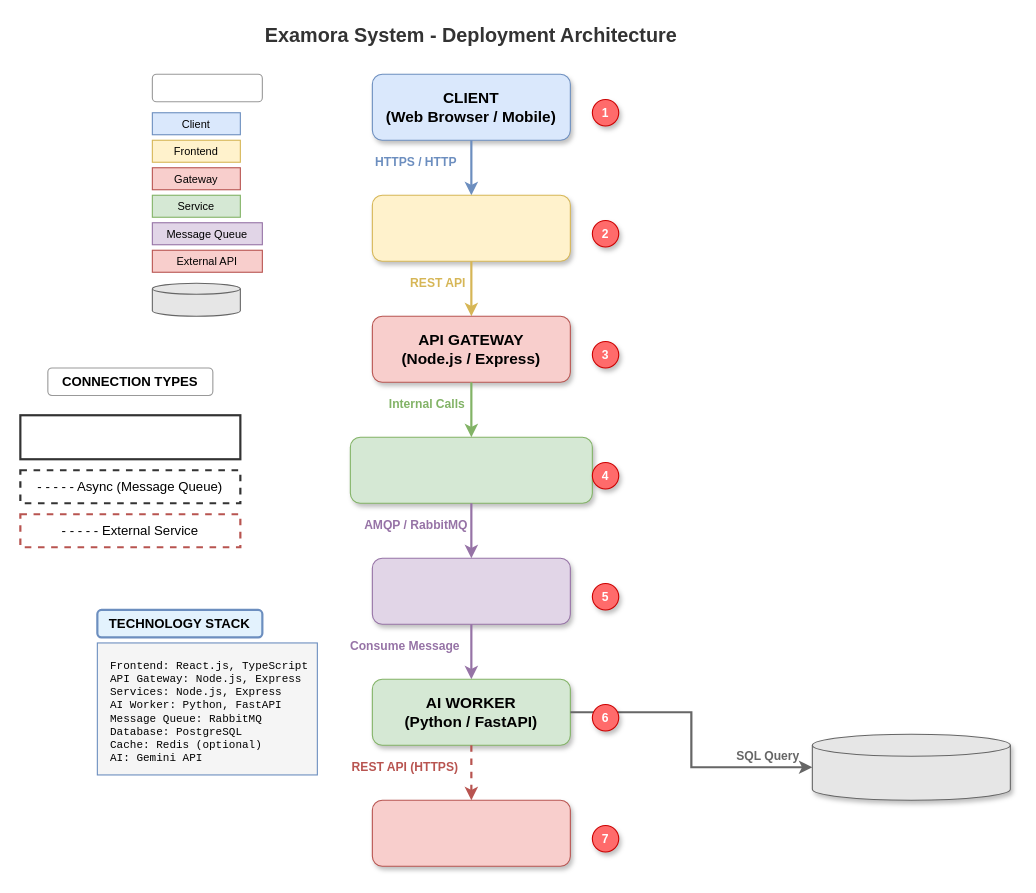
The diagram is 1036 pixels wide and 893 high, and some of its shapes have lost their labels. Each missing label, with the centre of its shape:
"BUSINESS SERVICES (Exam, Question, User, etc.)" belongs at (x=472, y=471).
"Database" belongs at (x=195, y=299).
"FRONTEND (React.js)" belongs at (x=472, y=229).
"GEMINI API (Google AI)" belongs at (x=472, y=834).
"LEGEND" belongs at (x=206, y=87).
"POSTGRESQL (Database)" belongs at (x=912, y=768).
"RABBITMQ (Message Broker)" belongs at (x=472, y=592).
"─────── Sync (Request/Response)" belongs at (x=130, y=437).
